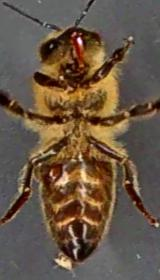varroa_mite: (22, 158, 73, 190)
